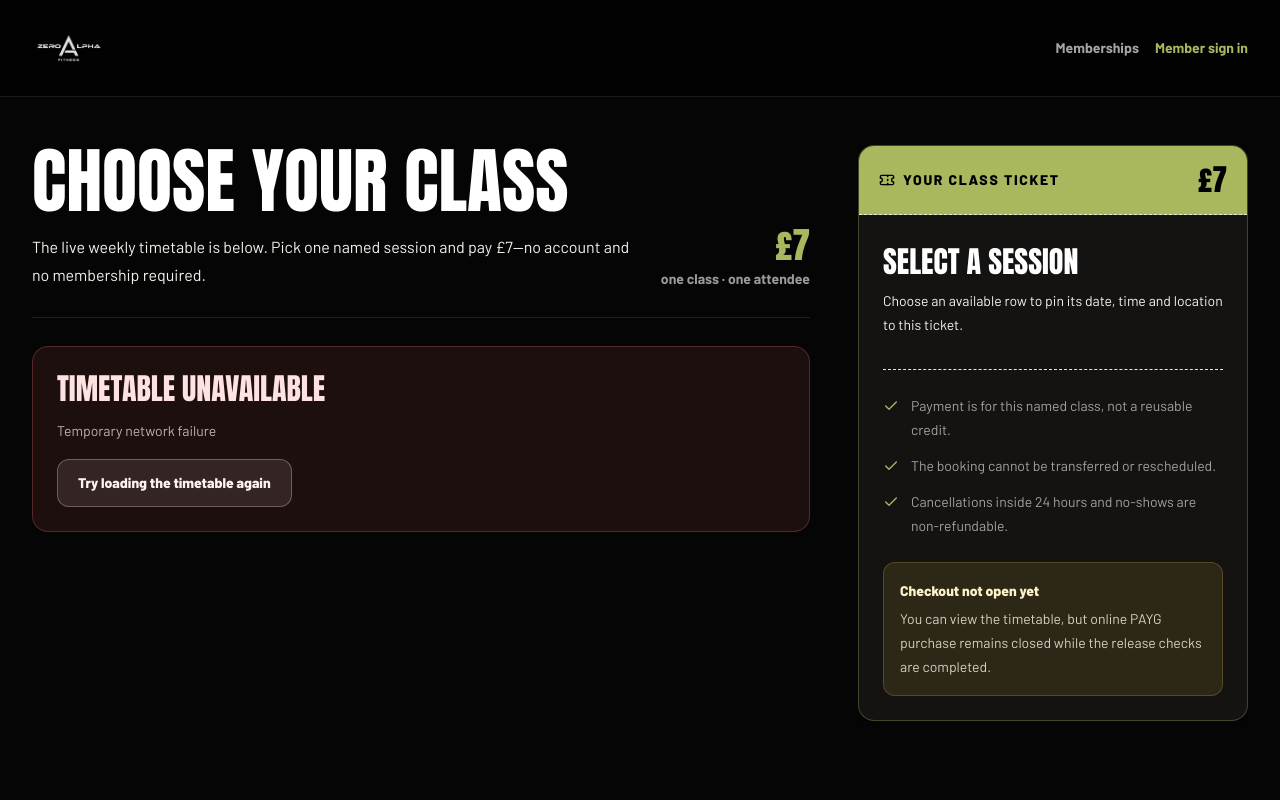
Test: Pay As You Go timetable › offers an in-place retry after a transient timetable failure
The width and height of the screenshot is (1280, 800).
Click the button "Try loading the timetable again" at (174, 483), box top-left (57, 459), bottom-right (292, 507)
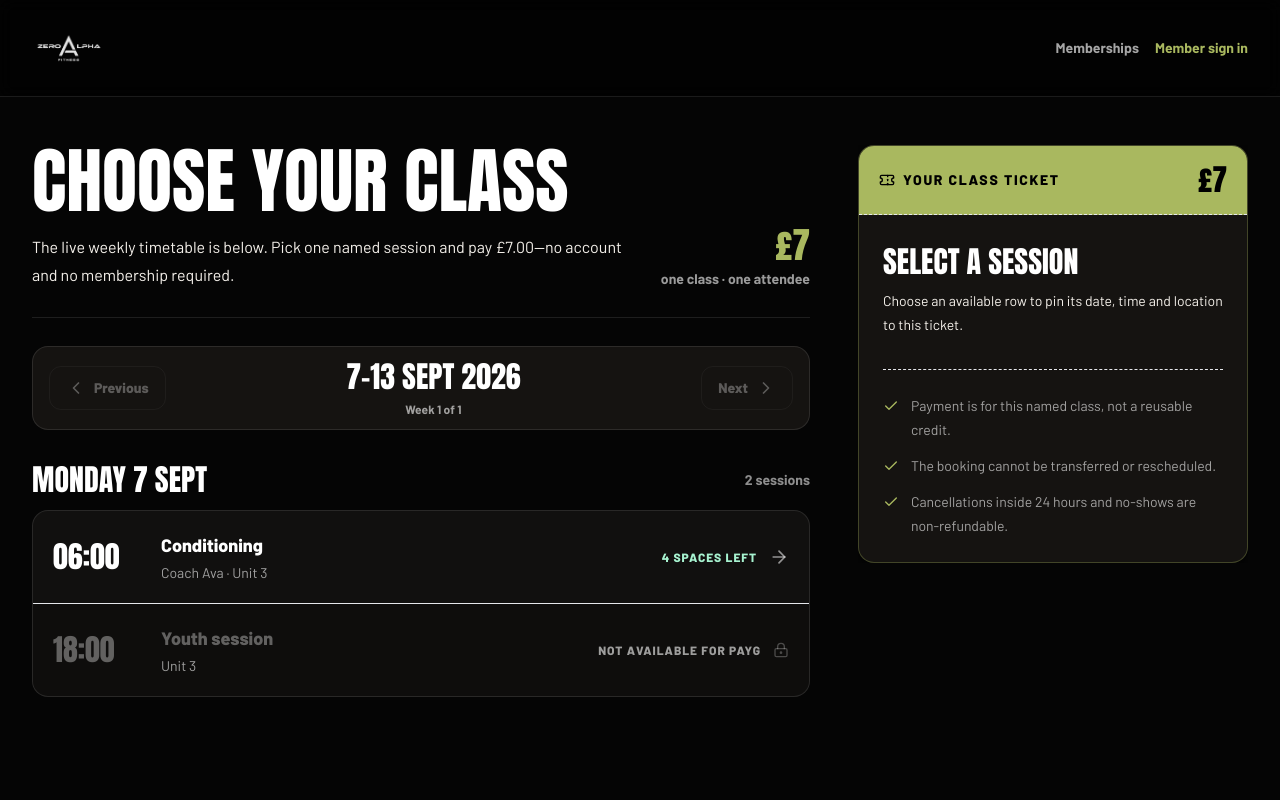
Expected: the button "06:00 Conditioning Coach Ava · Unit 3 4 spaces left" is shown, top-left (33, 511), bottom-right (809, 604)
